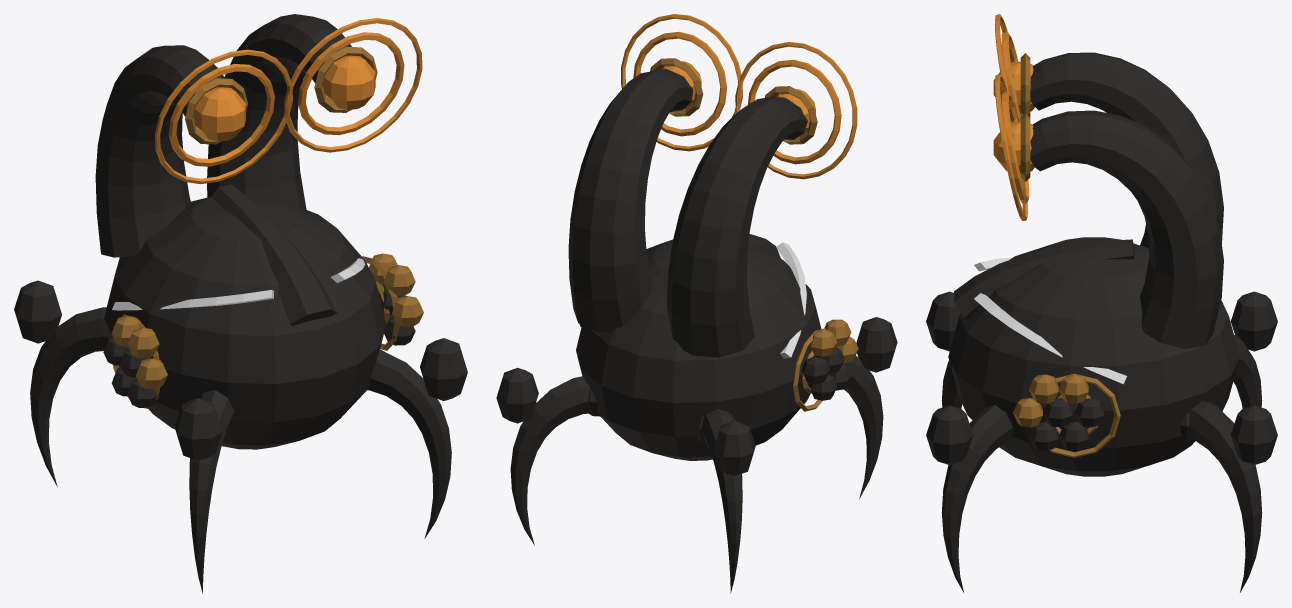
The model's file is artillery_t3.glb.
3 renders of one model, left to right at view 1: azimuth 30°, elevation 25°; view 2: azimuth 150°, elevation 25°; view 3: azimuth 270°, elevation 25°, orthographic. The views are drawn at different scales.
Visible parts, largest first — view 1: body; view 2: body; view 3: body.
Boxes of the visible parts, x1,y1,x2,y2 form: body: [14, 14, 467, 593]; body: [496, 14, 897, 593]; body: [926, 14, 1277, 592].
Size of the model in its own units: 4.49 by 7.71 by 5.
